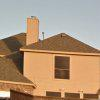Chimney: (21, 10, 41, 43)
